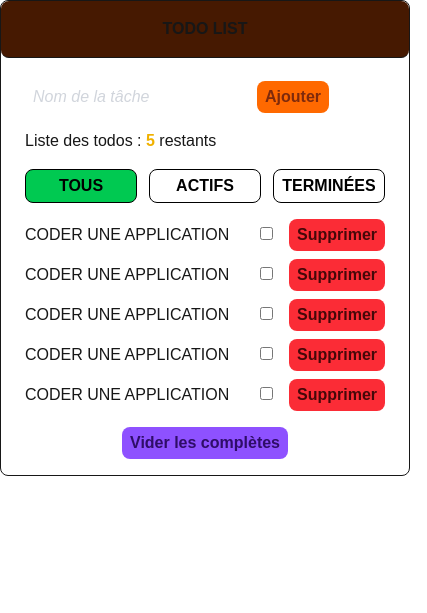
it: TodoList › Filtres › le filtre 'Completed' affiche uniquement les todos complétées
In the field: (137, 97) [25, 81, 249, 113], type "Coder une application"
Click the button "Ajouter": (293, 97) [257, 81, 329, 113]
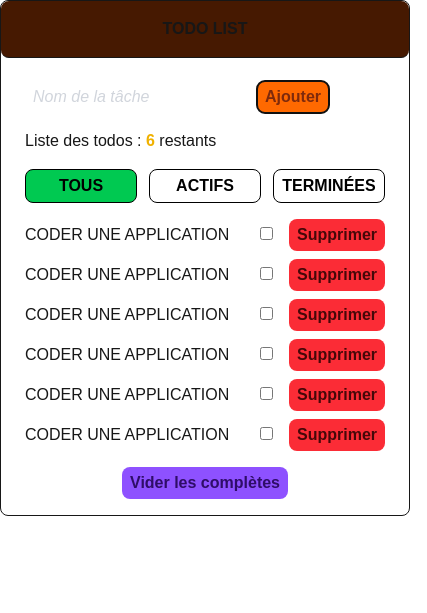
In the field: (137, 97) [25, 81, 249, 113], type "Tester avec Jest"
Click the button "Ajouter": (293, 97) [257, 81, 329, 113]
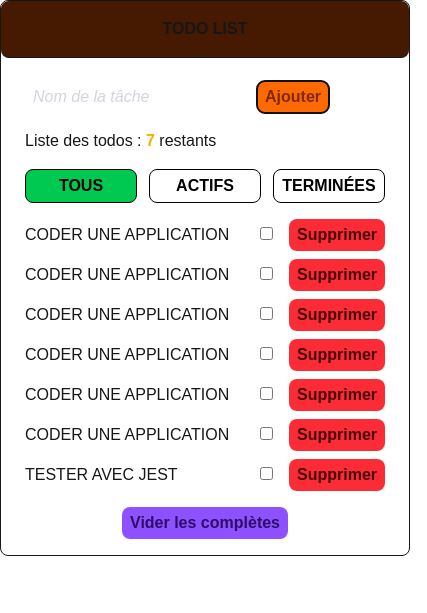
In the field: (137, 97) [25, 81, 249, 113], type "Noter les matchs"
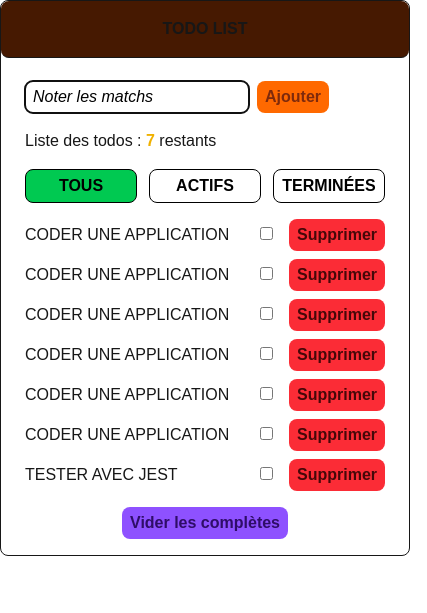
Click the button "Ajouter": (293, 97) [257, 81, 329, 113]
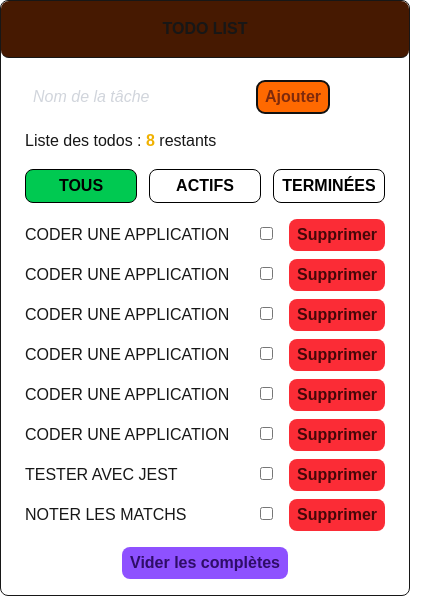
Click the 1st checkbox: (266, 234) [260, 227, 273, 240]
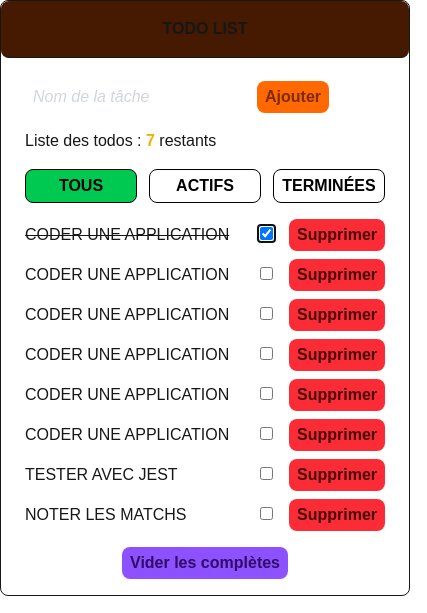
Click the button "Terminées": (329, 186) [273, 169, 385, 203]
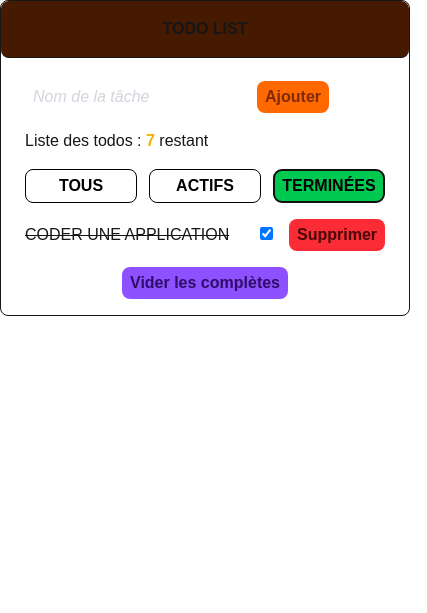
Expected: the text "Coder une application" is shown, [25, 223, 229, 247]
Now the text "Tester avec Jest" is gone
Now the text "Noter les matchs" is gone
